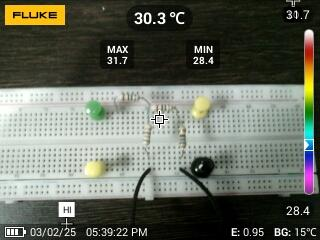resistor: (176, 124, 189, 152), (115, 92, 143, 104), (148, 103, 177, 114), (142, 123, 153, 149)
